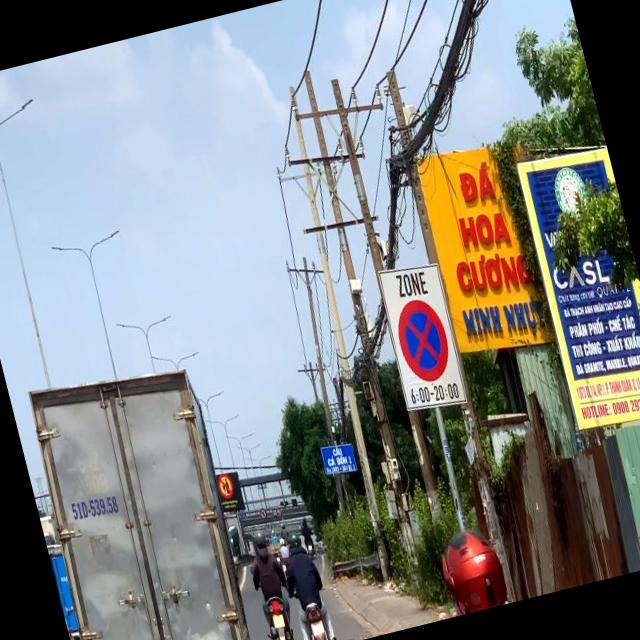P-130: (392, 296, 456, 385)
